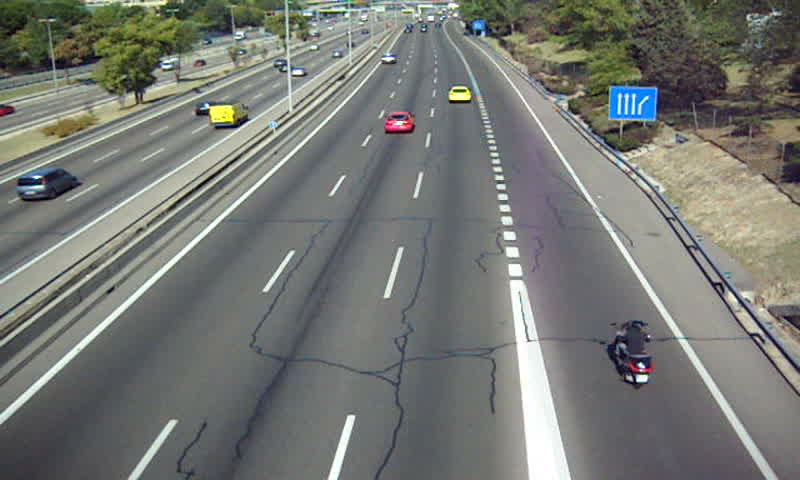car: (382, 110, 416, 134), (447, 85, 472, 104), (380, 54, 396, 66)
motorcycle: (613, 319, 655, 387)
